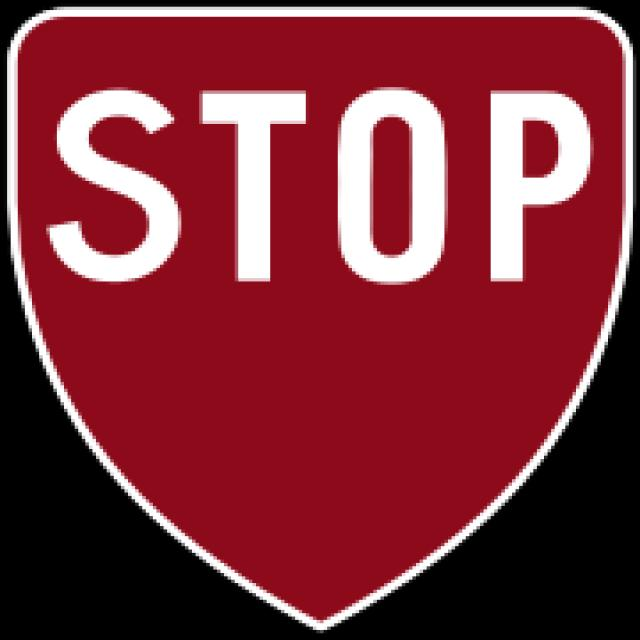Traffic sign: (12, 24, 629, 575)
